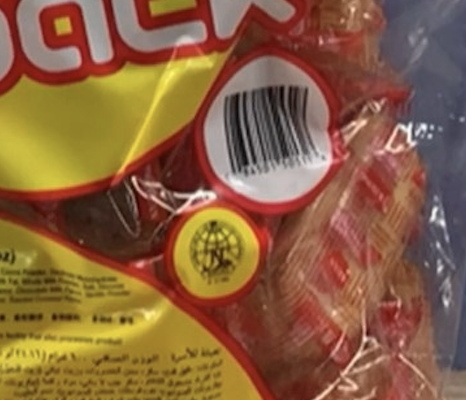halal: (193, 232, 245, 285)
